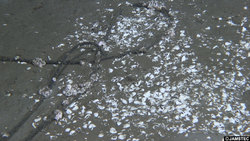rope: (1, 2, 175, 67), (1, 42, 111, 140)
